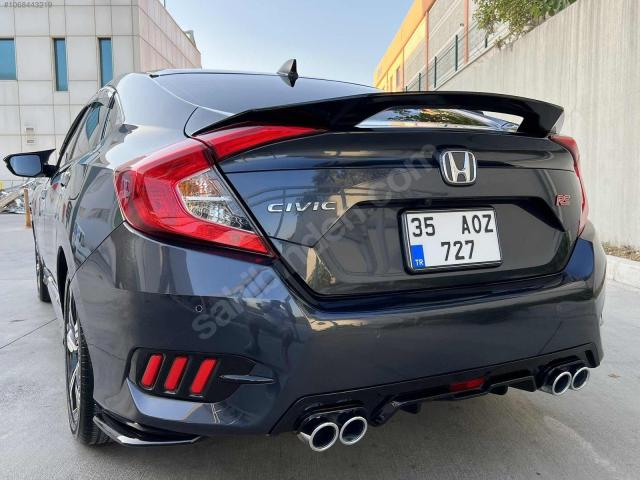plaka: (406, 210, 501, 269)
